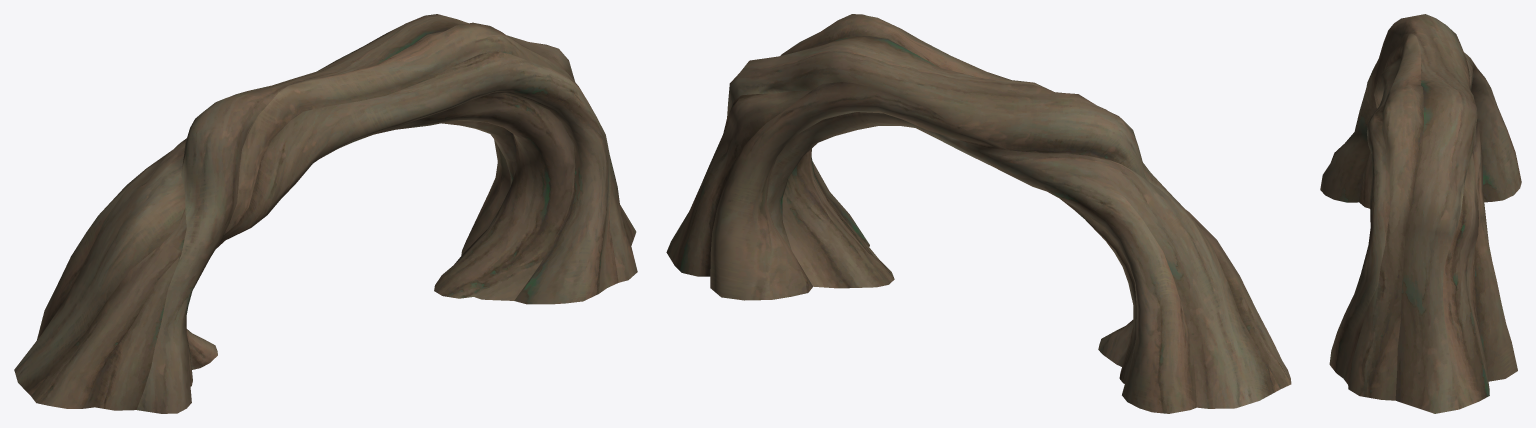
File: Area_Xm_Stone_YTBL_Full_NeiGen_M_01.fbx
3 renders of one model, left to right at view 1: azimuth 30°, elevation 25°; view 2: azimuth 150°, elevation 25°; view 3: azimuth 270°, elevation 25°, orthographic. The views are drawn at different scales.
Parts seen in each view (by area): view 1: Area_Xm_Stone_YTBL_Full_NeiGen_M_01_StoneTint_Lod0; view 2: Area_Xm_Stone_YTBL_Full_NeiGen_M_01_StoneTint_Lod0; view 3: Area_Xm_Stone_YTBL_Full_NeiGen_M_01_StoneTint_Lod0.
Boxes of the visible parts, box(x1,y1,x2,y2) form: Area_Xm_Stone_YTBL_Full_NeiGen_M_01_StoneTint_Lod0: box(14, 14, 637, 413); Area_Xm_Stone_YTBL_Full_NeiGen_M_01_StoneTint_Lod0: box(666, 14, 1291, 413); Area_Xm_Stone_YTBL_Full_NeiGen_M_01_StoneTint_Lod0: box(1320, 14, 1521, 413).
Size of the model in its own units: 54.23 by 22.74 by 16.89.
Materials: 1 (1 with a texture image).
